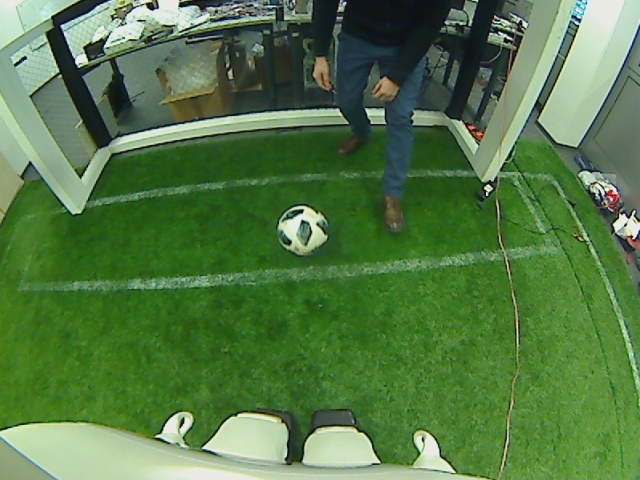ball: (277, 203, 330, 257)
